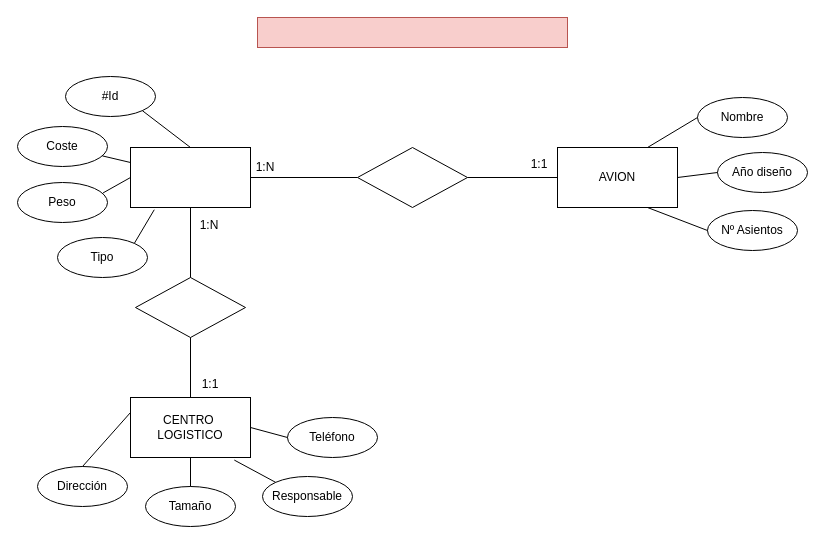
This 825x544 diagram has some shape labels left out. Here are the shapes that lost their labels. From the top down, the centre of each, then its label:
At pixel 412 32: "Empresa Fabricación de Aviones".
At pixel 190 177: "PIEZA".
At pixel 412 177: "Se monta".
At pixel 190 307: "Esta".
